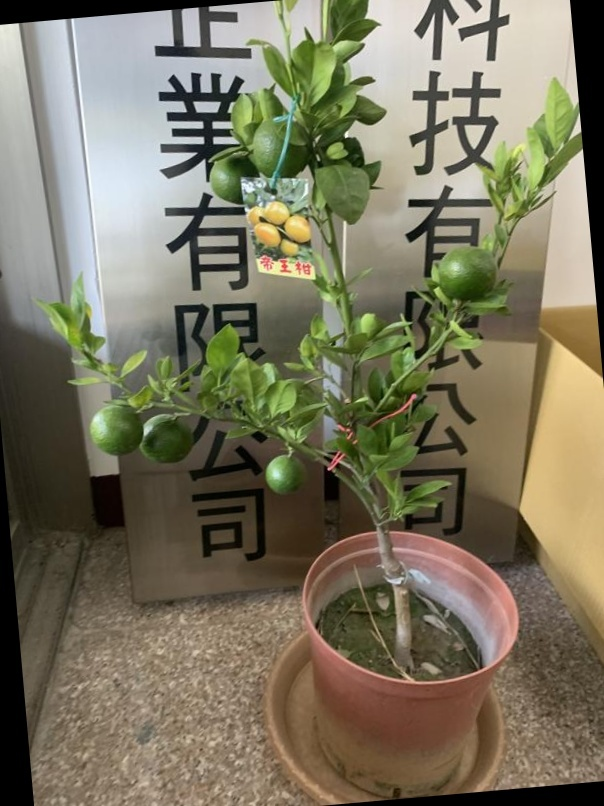Tangerine: (440, 243, 500, 301), (87, 402, 145, 458), (140, 413, 194, 465), (264, 453, 308, 497)
